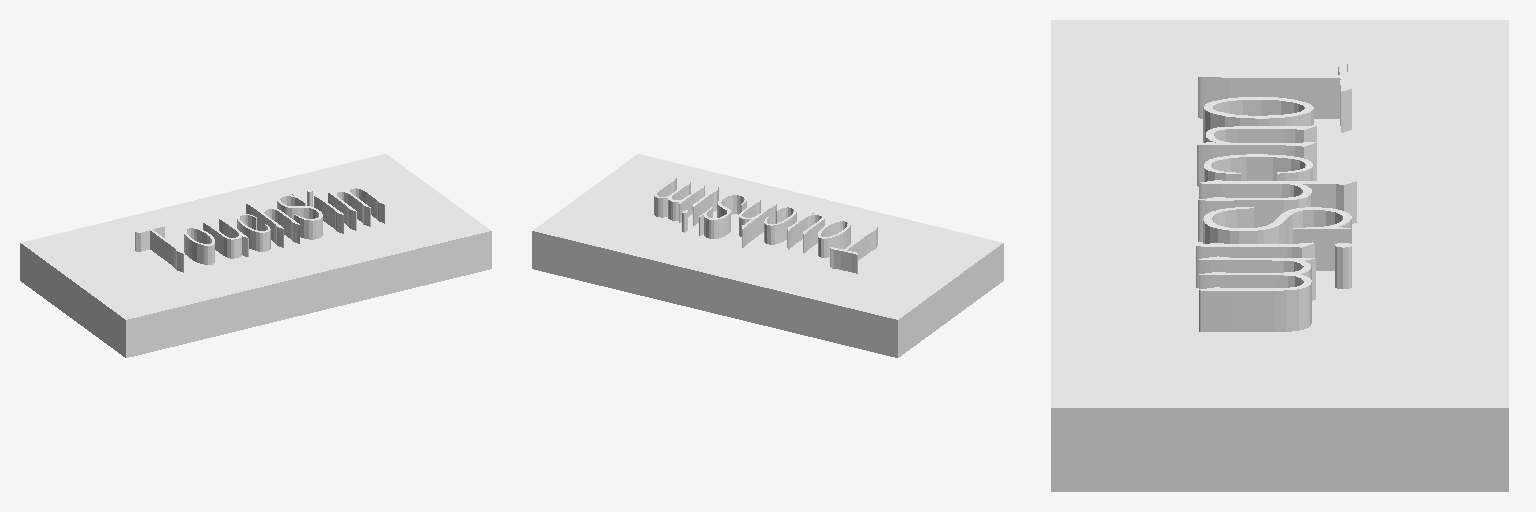
The robot description file, URDF, robot "test":
<?xml version="1.0" encoding="utf-8"?>
<!-- This URDF was automatically created by SolidWorks to URDF Exporter! Originally created by [author] ([email redacted]) 
     Commit Version: 1.6.0-4-g7f85cfe  Build Version: 1.6.7995.38578
     For more information, please see http://wiki.ros.org/sw_urdf_exporter -->
<robot
  name="test">
    <link name="world">
  </link>

	<joint name = "rail" type = "prismatic">
    <parent link="world"/>    
    <child link="base_link"/>    
    <origin xyz="0.0 0.0 0.0"/>    
    <axis xyz="0 0 1"/>
    <limit lower="-0.1" upper="0.1"/>
    <dynamics damping="0.0" friction="0.0"/>  
	</joint>


  <link name="base_link">
    <inertial>
      <origin
        xyz="-0.000135784271391992 -0.00035116771294751 0.00100549587220426"
        rpy="0 0 0" />
      <mass
        value="0.000411575475656895" />
      <inertia
        ixx="3.50529095491679E-09"
        ixy="3.25772548984916E-12"
        ixz="-6.38649528556874E-12"
        iyy="1.35973370085991E-08"
        iyz="3.80608858900384E-12"
        izz="1.67819690298357E-08" />
    </inertial>
    <visual>
      <origin
        xyz="0 0 0"
        rpy="0 0 0" />
      <geometry>
        <mesh
          filename="meshes/test/base_link.STL" />
      </geometry>
      <material
        name="">
        <color
          rgba="1 1 1 1" />
      </material>
    </visual>
    <collision>
      <origin
        xyz="0 0 0"
        rpy="0 0 0" />
      <geometry>
        <mesh
          filename="meshes/test/base_link.STL" />
      </geometry>
    </collision>
  </link>
</robot>

--- What the picture shows (computed from the rendered views, not written in the file) ---
3 views of the same robot in one strip: view 1: azimuth 30°, elevation 25°; view 2: azimuth 150°, elevation 25°; view 3: azimuth 270°, elevation 25° (orthographic).
Robot: test — 2 links, 1 joints (1 prismatic); root link world; default pose: all joints at 0.
Visible links, largest first — view 1: base_link; view 2: base_link; view 3: base_link.
Boxes of the visible links, bbox=[...] form: base_link: bbox=[20, 154, 491, 357]; base_link: bbox=[532, 154, 1003, 357]; base_link: bbox=[1051, 20, 1508, 491].
Size in the robot's own frame: 0.02 by 0.01 by 0.004 metres.
Meshes: 1 distinct files referenced, 1 mesh visuals loaded (1 binary STL).